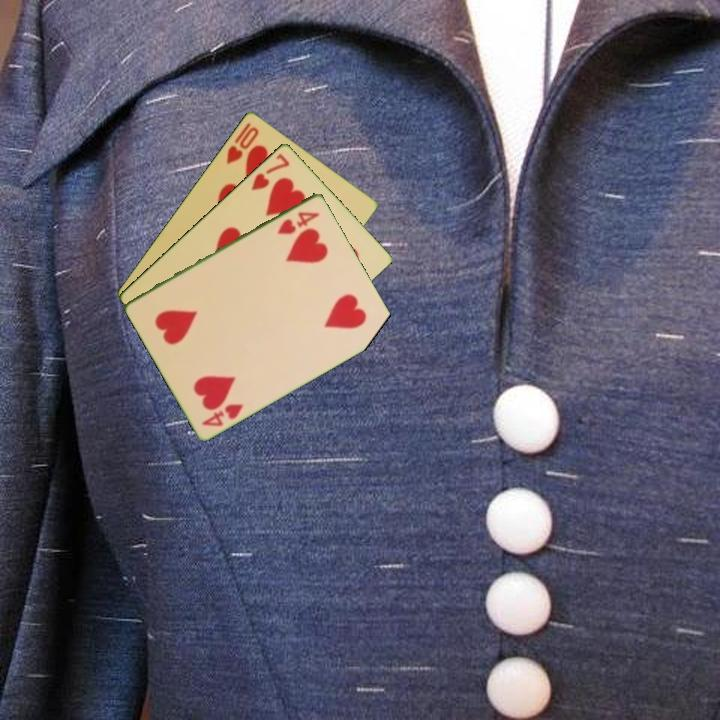10h: (222, 123, 262, 167)
4h: (274, 208, 322, 237), (198, 400, 246, 429)
7h: (247, 149, 293, 193)
